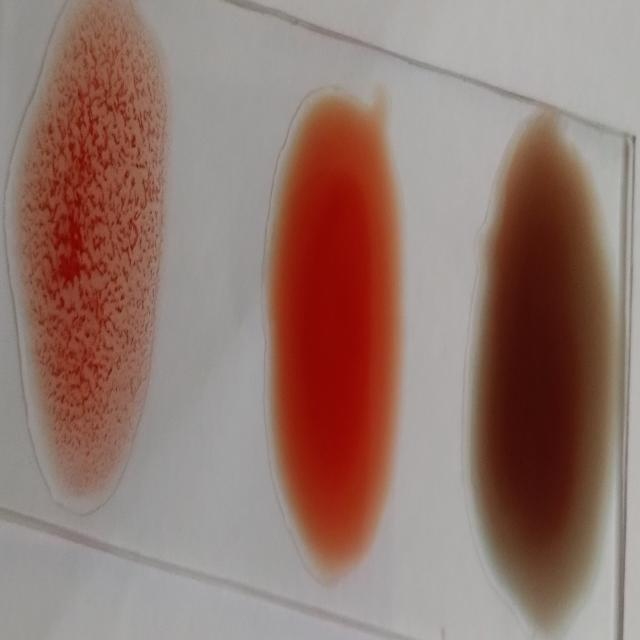D: (21, 7, 163, 486)
